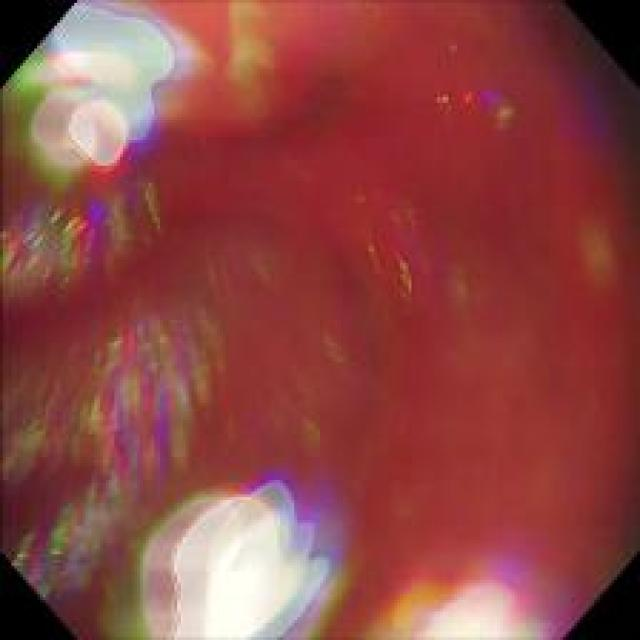color misalignment: (10, 165, 179, 631), (121, 475, 381, 634), (6, 5, 200, 164), (265, 161, 368, 446), (382, 564, 578, 639), (346, 189, 434, 301), (218, 1, 285, 120), (431, 84, 519, 130), (438, 255, 479, 309)
